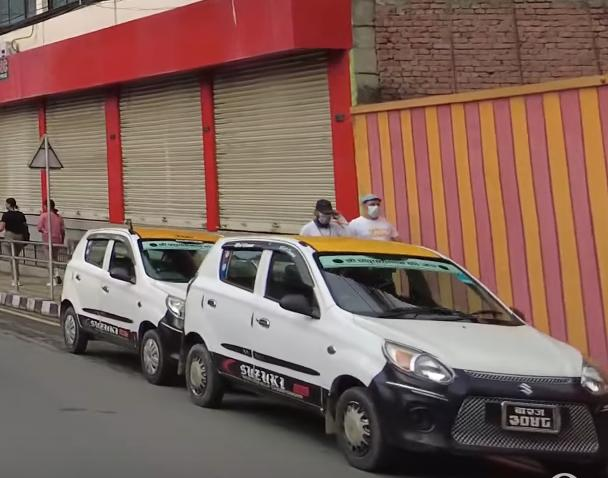taxi: (176, 226, 608, 471), (56, 219, 261, 382)
